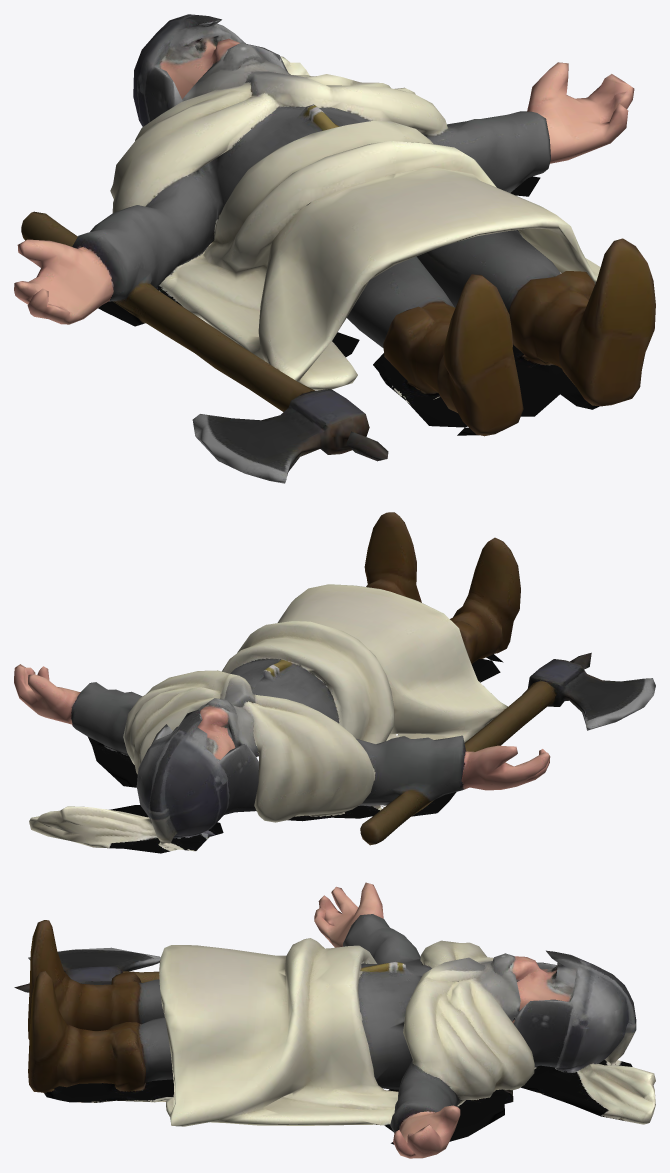
Rendered from hold_captain_fallen.glb.
3 renders of one model, top to bottom at view 1: azimuth 30°, elevation 25°; view 2: azimuth 150°, elevation 25°; view 3: azimuth 270°, elevation 25°, orthographic. The views are drawn at different scales.
Visible parts, largest first — view 1: world; view 2: world; view 3: world.
Part boxes in pixels (x1=…): world: x1=14, y1=14, x2=655, y2=483; world: x1=14, y1=512, x2=655, y2=853; world: x1=14, y1=882, x2=655, y2=1158.
Bounding box in the file's own units: 0.8981 × 0.2139 × 0.9864.
Materials: 1 (1 with a texture image).
